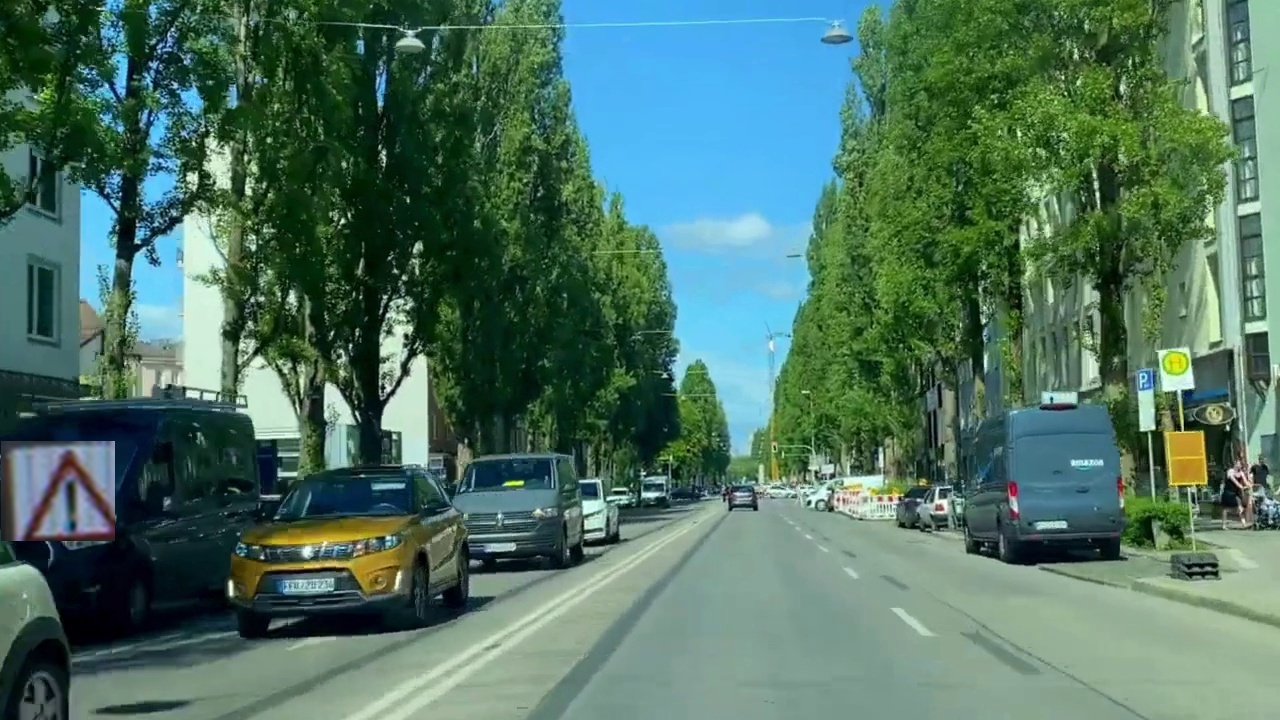Caution: (1, 441, 115, 541)
